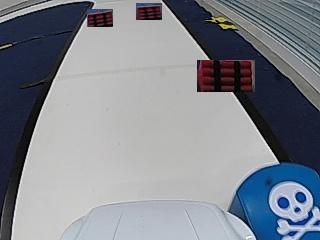danger: (266, 179, 318, 239)
